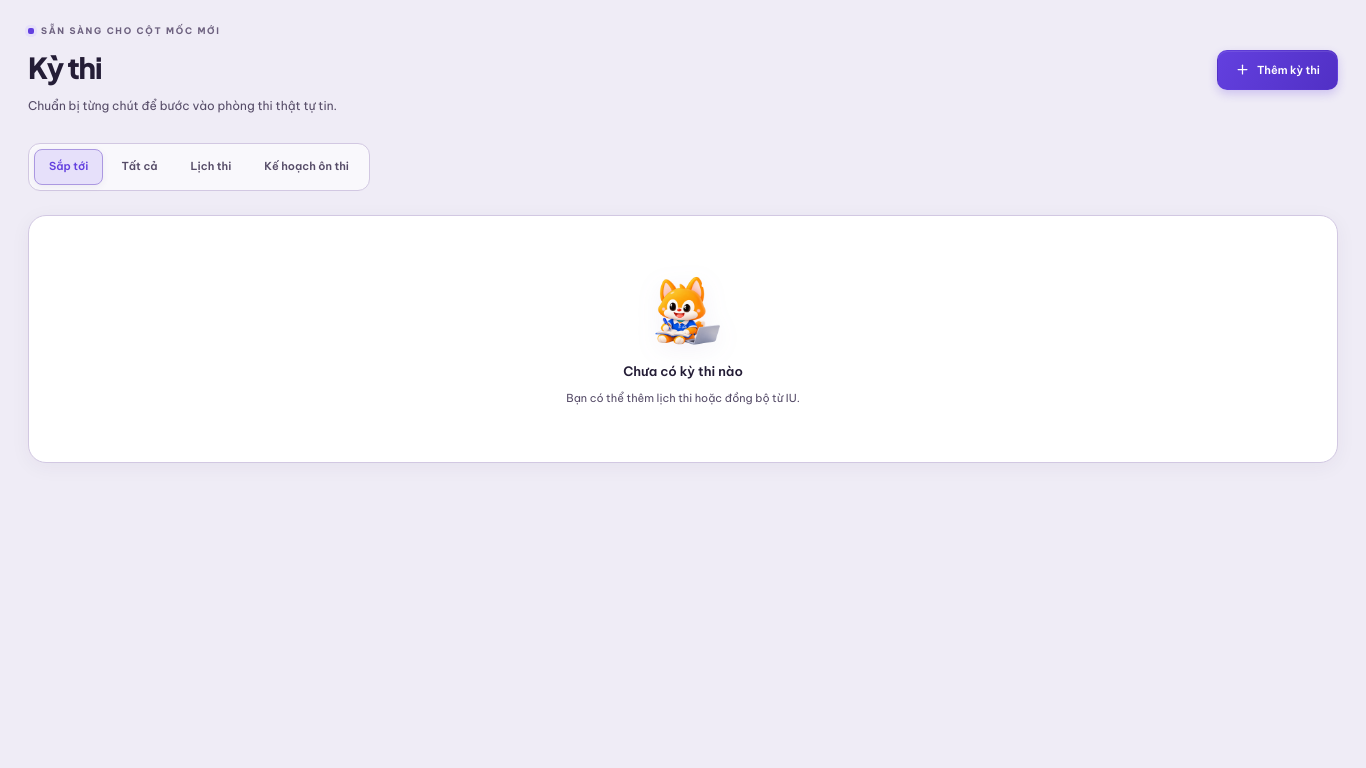
Test: Past dates and invalid planning ranges in forms › removes an exam that started today from upcoming and disables new review plans
Later steps or results of the test are not shown.
Expected: the heading "Chưa có kỳ thi nào" is shown, [623,361,743,381]
Click the tab "Tất cả" at (139, 167), box [106,149,172,185]
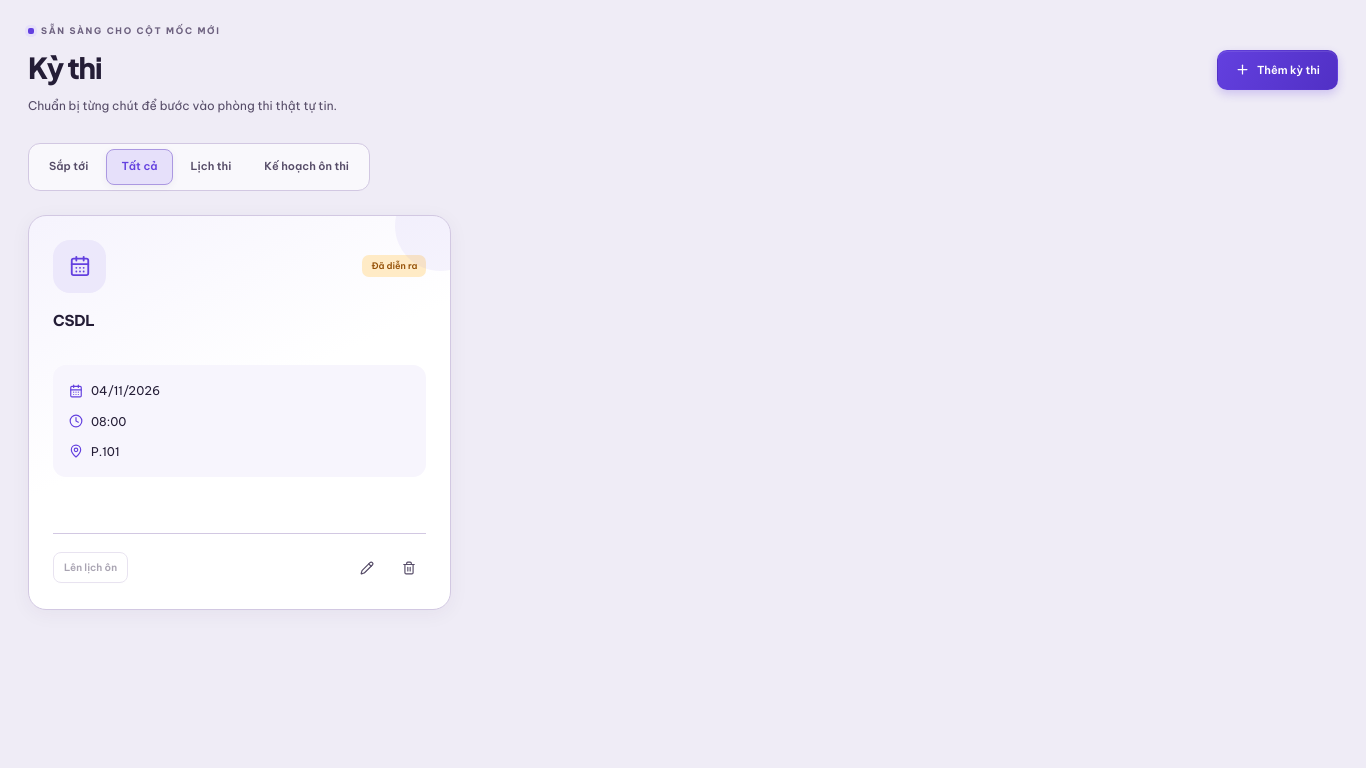
Expected: the text "Đã diễn ra" is shown, [362,255,426,277]
Expected: the button "Lên lịch ôn" is disabled, [53,552,128,583]
